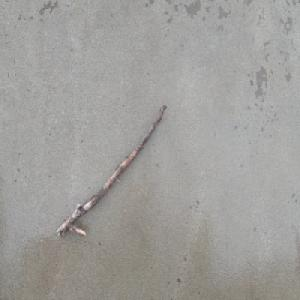Wood: (55, 102, 168, 239)
